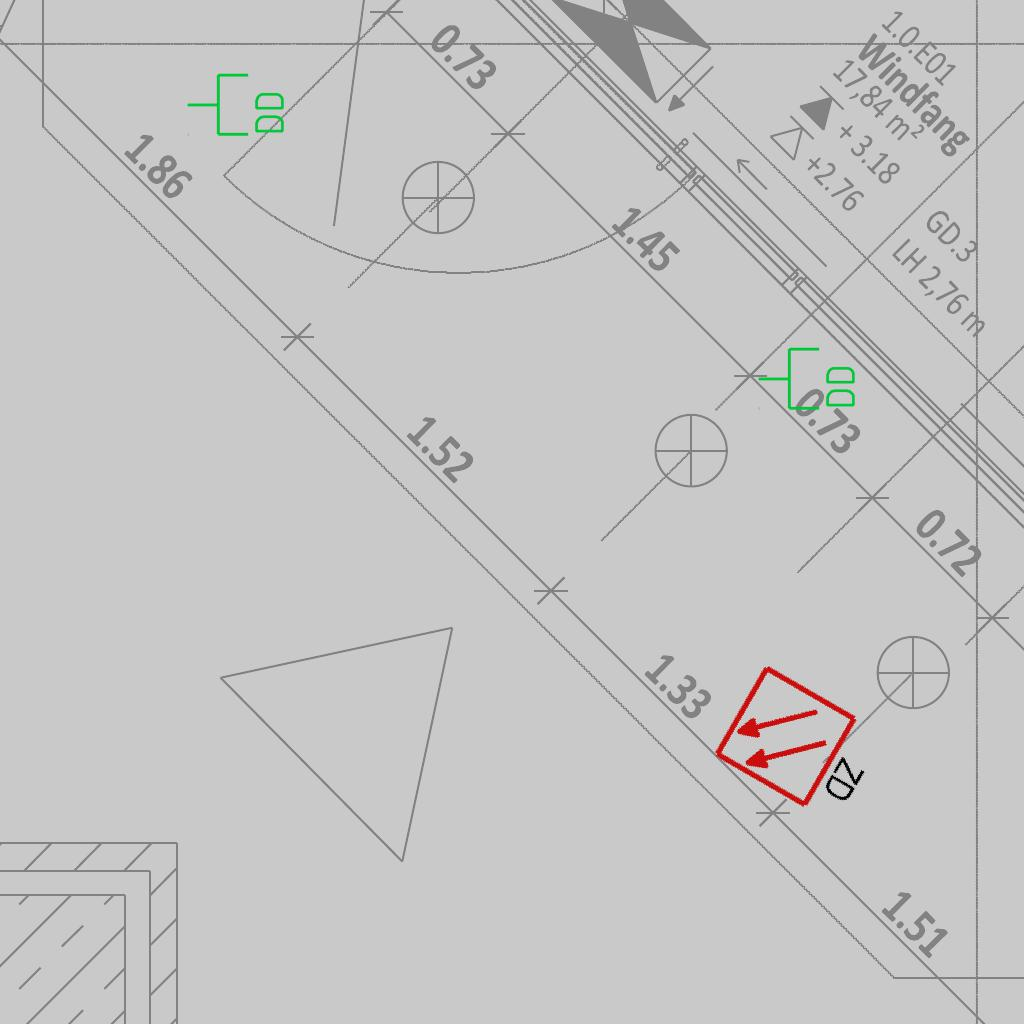Datenanschluss_zweifach: (756, 345, 859, 414), (185, 71, 288, 140)
ZD_Melder_in_Zwischendecke_mit_Revisionsoeffnung_mind_40_x_40_cm: (709, 657, 897, 832)
